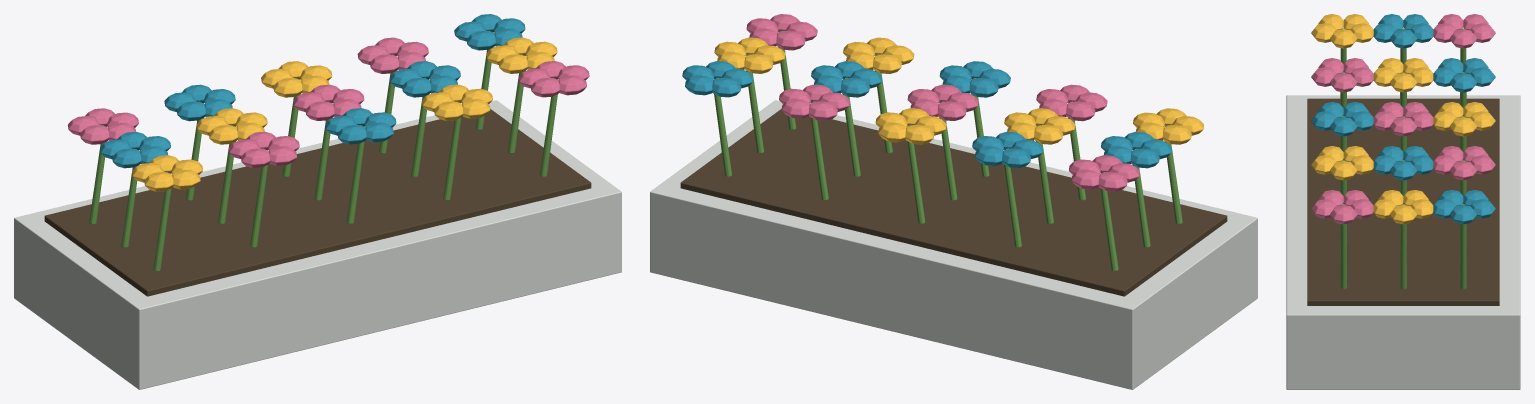
File: HAP_PLANTER_HEALTHY_01.fbx
3 renders of one model, left to right at view 1: azimuth 30°, elevation 25°; view 2: azimuth 150°, elevation 25°; view 3: azimuth 270°, elevation 25°, orthographic. The views are drawn at different scales.
Parts seen in each view (by area): view 1: HAP_PLANTER_HEALTHY_01; view 2: HAP_PLANTER_HEALTHY_01; view 3: HAP_PLANTER_HEALTHY_01.
Boxes of the visible parts, x1,y1,x2,y2 form: HAP_PLANTER_HEALTHY_01: [14, 14, 621, 389]; HAP_PLANTER_HEALTHY_01: [650, 14, 1257, 389]; HAP_PLANTER_HEALTHY_01: [1286, 14, 1520, 389].
Size of the model in its own units: 200 by 74 by 90.
